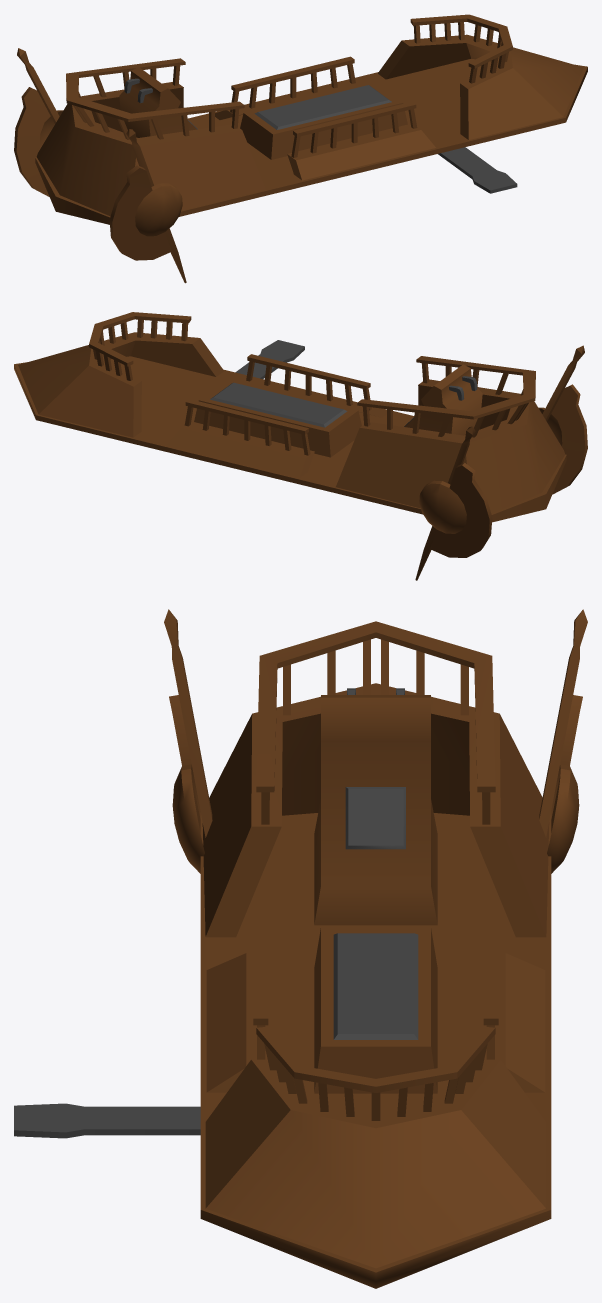
The model's file is desert_skiff.glb.
3 renders of one model, top to bottom at view 1: azimuth 30°, elevation 25°; view 2: azimuth 150°, elevation 25°; view 3: azimuth 270°, elevation 25°, orthographic. The views are drawn at different scales.
Parts seen in each view (by area): view 1: Desert_skiff; view 2: Desert_skiff; view 3: Desert_skiff.
Part boxes in pixels (x1,y1,x2,y2): Desert_skiff: [14, 14, 587, 283]; Desert_skiff: [14, 312, 587, 580]; Desert_skiff: [14, 609, 587, 1288].
Bounding box in the file's own units: 14.03 × 4.74 × 7.
